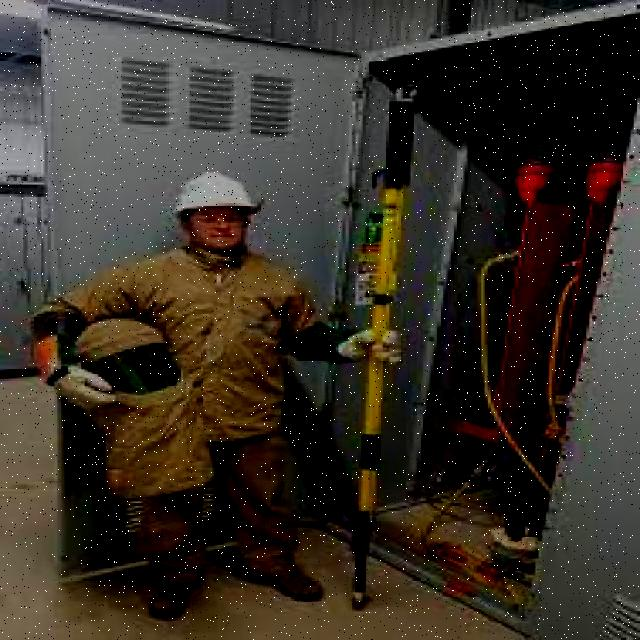Gloves: (37, 350, 105, 412), (339, 326, 407, 372)
Helmet: (172, 169, 258, 209)
Mask: (100, 248, 300, 488)
